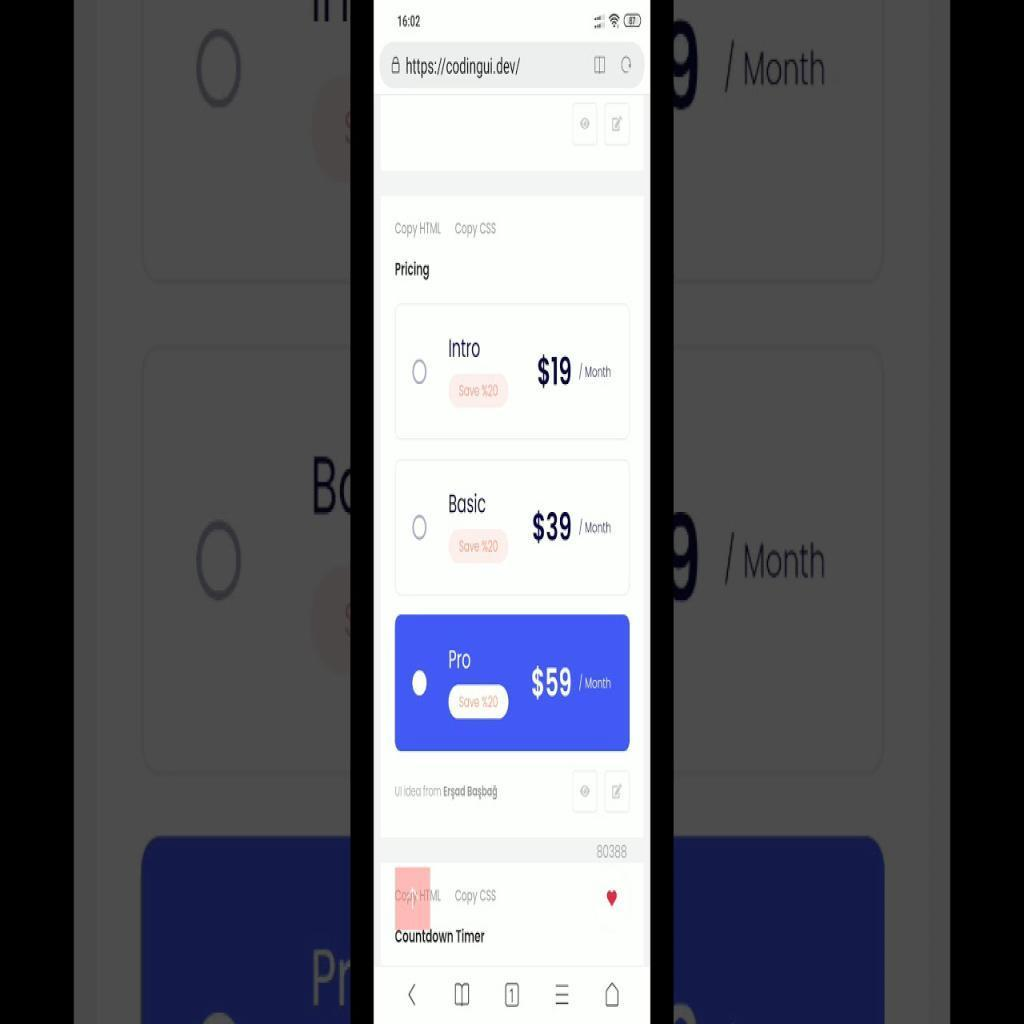radio: (410, 357, 429, 389), (412, 513, 428, 543), (413, 671, 429, 699)
